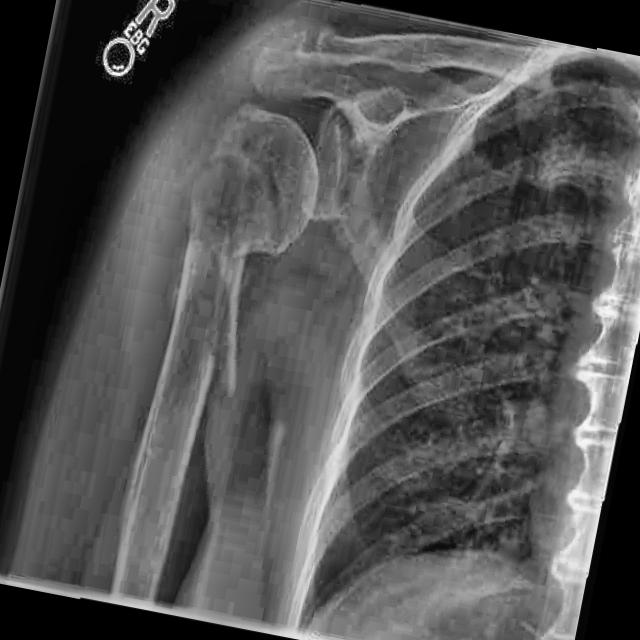shoulder fracture: (187, 297, 258, 418)
